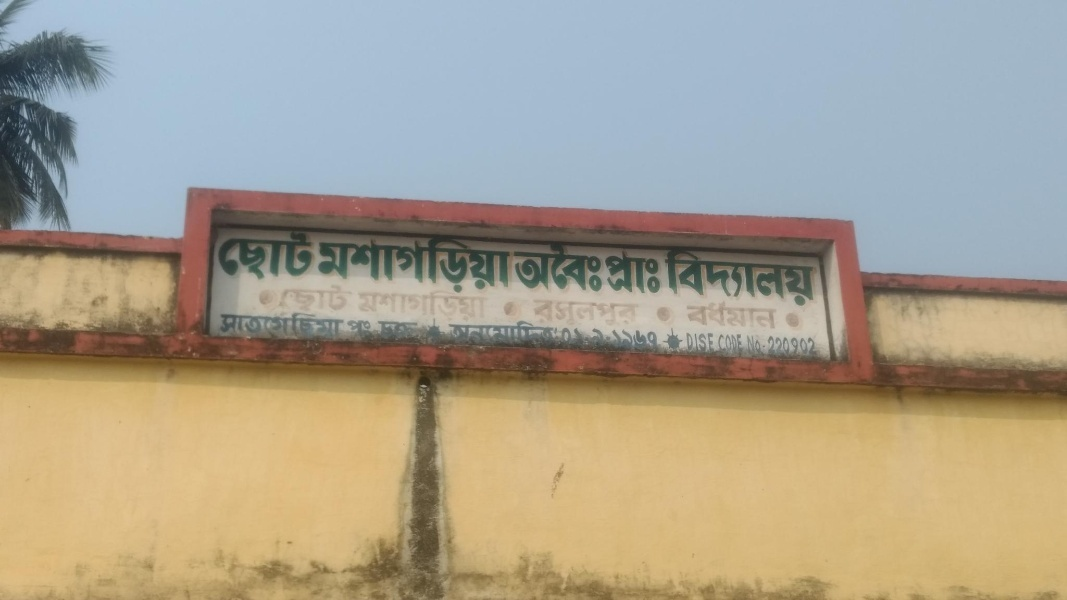text: (321, 234, 336, 297), (337, 234, 352, 297), (353, 234, 368, 297), (369, 234, 384, 297), (385, 234, 400, 297), (401, 234, 416, 297), (417, 234, 432, 297), (433, 234, 448, 297), (449, 234, 464, 297), (465, 234, 480, 297), (481, 234, 496, 297), (497, 234, 512, 297), (673, 248, 688, 309), (689, 248, 704, 309), (705, 248, 720, 309), (721, 248, 736, 309), (737, 248, 752, 309), (753, 248, 768, 309), (769, 248, 784, 309), (785, 248, 800, 309), (801, 248, 816, 309), (513, 239, 528, 297), (529, 239, 544, 297), (545, 239, 560, 297), (561, 239, 576, 297), (577, 239, 592, 297), (593, 239, 607, 297), (609, 247, 624, 298), (625, 247, 640, 298), (641, 247, 656, 298), (225, 232, 240, 283), (241, 232, 256, 283), (257, 232, 272, 283), (273, 232, 288, 283), (289, 232, 304, 283), (305, 232, 319, 283), (662, 248, 672, 309), (289, 282, 304, 316), (305, 282, 320, 316), (321, 282, 336, 316), (337, 282, 352, 316), (369, 288, 384, 321), (385, 288, 400, 321), (401, 288, 416, 321), (417, 288, 432, 321), (433, 288, 448, 321), (449, 288, 464, 321), (465, 288, 480, 321), (545, 297, 560, 330), (561, 297, 576, 330), (577, 297, 592, 330), (593, 297, 608, 330), (609, 297, 624, 330), (689, 299, 704, 331), (705, 299, 720, 331), (721, 299, 736, 331), (737, 299, 752, 331), (753, 299, 768, 331), (225, 309, 240, 339), (241, 309, 256, 339), (257, 309, 272, 339), (273, 309, 288, 339), (289, 309, 304, 339), (305, 309, 320, 339), (321, 309, 336, 339), (449, 318, 464, 348), (465, 318, 480, 348), (481, 318, 496, 348), (497, 318, 512, 348), (513, 318, 528, 348), (529, 318, 544, 348), (625, 297, 637, 330), (577, 327, 593, 350), (625, 329, 640, 353), (641, 329, 656, 353), (689, 332, 704, 356), (657, 247, 664, 298), (561, 327, 576, 350), (721, 333, 736, 356), (769, 335, 784, 358), (785, 335, 800, 358), (801, 335, 816, 358), (534, 297, 544, 330), (385, 321, 400, 343), (401, 321, 416, 343), (593, 328, 608, 350), (353, 320, 368, 341), (513, 234, 518, 297), (753, 334, 767, 356), (545, 318, 555, 348), (481, 288, 490, 321), (705, 332, 717, 356), (337, 309, 346, 339), (613, 329, 624, 353), (603, 247, 608, 298), (361, 288, 368, 321), (769, 299, 776, 331), (217, 309, 224, 339), (737, 333, 746, 356), (817, 248, 820, 309), (369, 320, 377, 341), (609, 328, 615, 350), (444, 318, 448, 348), (747, 334, 752, 356), (222, 232, 224, 283), (285, 282, 288, 316), (353, 282, 356, 316), (657, 329, 661, 353), (684, 332, 688, 356), (817, 335, 821, 358), (380, 321, 384, 343), (348, 320, 352, 341), (417, 321, 420, 343), (511, 239, 512, 297), (590, 328, 592, 350), (687, 299, 688, 331), (719, 333, 720, 356), (767, 335, 768, 358)
